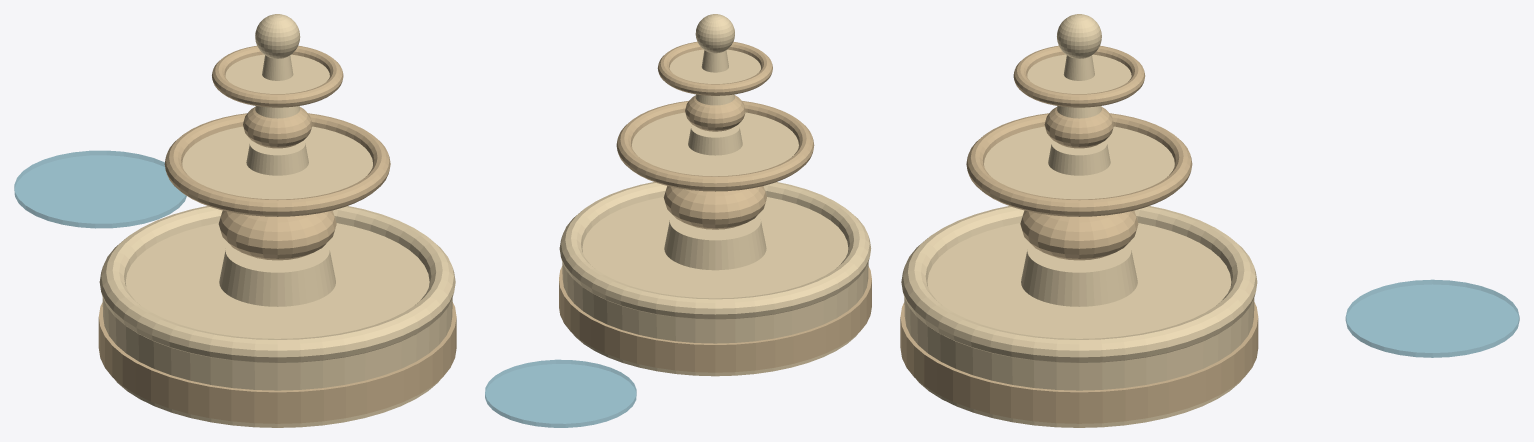
Rendered from Fuente.fbx.
The picture shows the model from 3 angles, left to right: view 1: azimuth 30°, elevation 25°; view 2: azimuth 150°, elevation 25°; view 3: azimuth 270°, elevation 25°; orthographic projection. The views are drawn at different scales.
Parts seen in each view (by area): view 1: Pileta_exterior, Pileta_borde, Pileta_banda, Plato1_agua, Plato1_cuerpo, Plato1_borde, Ped1_base, Ped1_bulbo, Plato2_borde, Plato2_cuerpo, Ped2_bulbo, Ped2_base (+3 smaller); view 2: Pileta_exterior, Pileta_borde, Pileta_banda, Plato1_agua, Plato1_cuerpo, Plato1_borde, Ped1_base, Ped1_bulbo, Plato2_borde, Plato2_cuerpo, Ped2_bulbo, Ped2_base (+2 smaller); view 3: Pileta_exterior, Pileta_borde, Pileta_banda, Plato1_agua, Plato1_cuerpo, Plato1_borde, Ped1_base, Ped1_bulbo, Plato2_borde, Plato2_cuerpo, Ped2_bulbo, Ped2_base (+2 smaller).
Boxes of the visible parts, <box> form: Pileta_exterior: <box>102,223,452,427</box>; Pileta_borde: <box>99,206,455,362</box>; Pileta_banda: <box>98,302,456,423</box>; Plato1_agua: <box>14,150,186,228</box>; Plato1_cuerpo: <box>182,126,372,199</box>; Plato1_borde: <box>164,113,390,216</box>; Ped1_base: <box>219,243,335,306</box>; Ped1_bulbo: <box>218,210,336,260</box>; Plato2_borde: <box>212,45,343,107</box>; Plato2_cuerpo: <box>225,54,329,93</box>; Ped2_bulbo: <box>243,107,312,148</box>; Ped2_base: <box>246,140,308,175</box>; Pileta_exterior: <box>562,197,868,376</box>; Pileta_borde: <box>559,182,871,319</box>; Pileta_banda: <box>559,266,871,372</box>; Plato1_agua: <box>485,359,636,427</box>; Plato1_cuerpo: <box>632,112,798,176</box>; Plato1_borde: <box>616,101,814,191</box>; Ped1_base: <box>664,215,766,270</box>; Ped1_bulbo: <box>663,186,766,229</box>; Plato2_borde: <box>657,41,772,95</box>; Plato2_cuerpo: <box>669,49,760,83</box>; Ped2_bulbo: <box>685,95,745,131</box>; Ped2_base: <box>688,124,742,155</box>; Pileta_exterior: <box>904,223,1254,427</box>; Pileta_borde: <box>901,206,1257,362</box>; Pileta_banda: <box>900,302,1258,423</box>; Plato1_agua: <box>1345,279,1519,357</box>; Plato1_cuerpo: <box>984,126,1174,199</box>; Plato1_borde: <box>966,113,1192,216</box>; Ped1_base: <box>1021,243,1137,306</box>; Ped1_bulbo: <box>1020,210,1138,260</box>; Plato2_borde: <box>1013,45,1145,107</box>; Plato2_cuerpo: <box>1027,54,1131,93</box>; Ped2_bulbo: <box>1044,107,1113,148</box>; Ped2_base: <box>1048,140,1110,175</box>.
Size of the model in its own units: 206 by 215 by 356.
